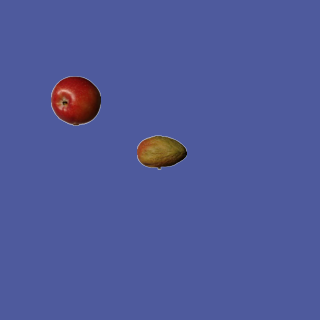Apple Braeburn: (50, 75, 100, 125)
Papaya: (136, 127, 186, 177)
